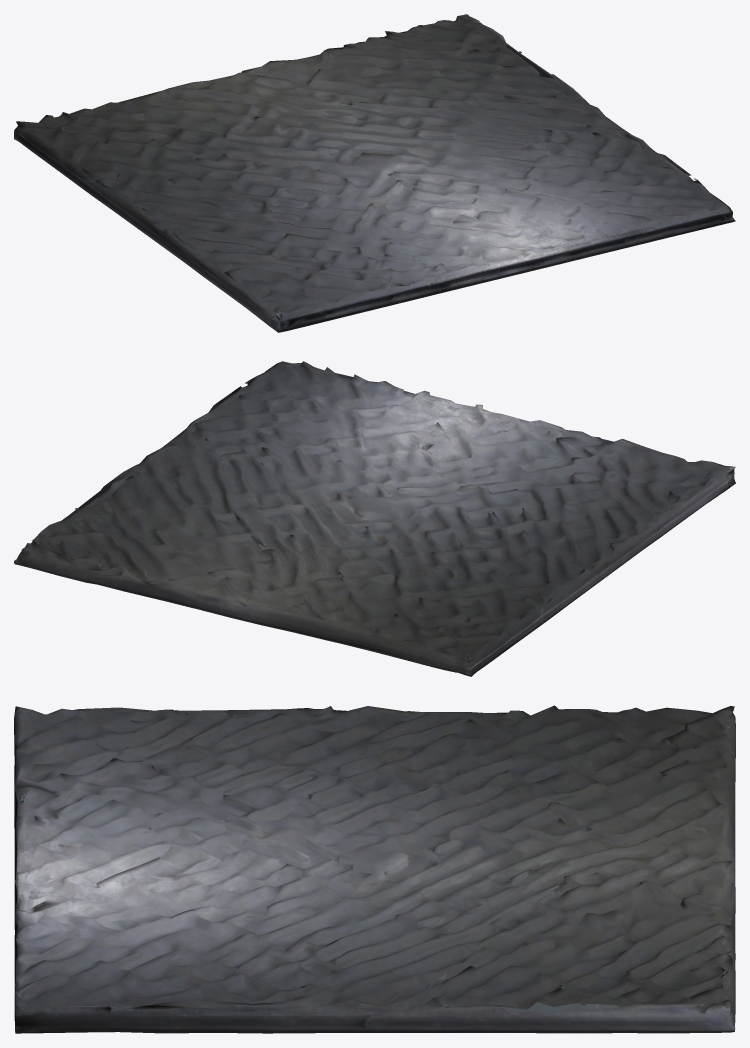
The model's file is Meshy_AI_Industrial_mental_flo_0221052323_texture.glb.
3 views of the same model, one above another, from view 1: azimuth 30°, elevation 25°; view 2: azimuth 150°, elevation 25°; view 3: azimuth 270°, elevation 25° (orthographic). The views are drawn at different scales.
Size of the model in its own units: 2 by 0.0842 by 2.
Materials: 1 (1 with a texture image).
